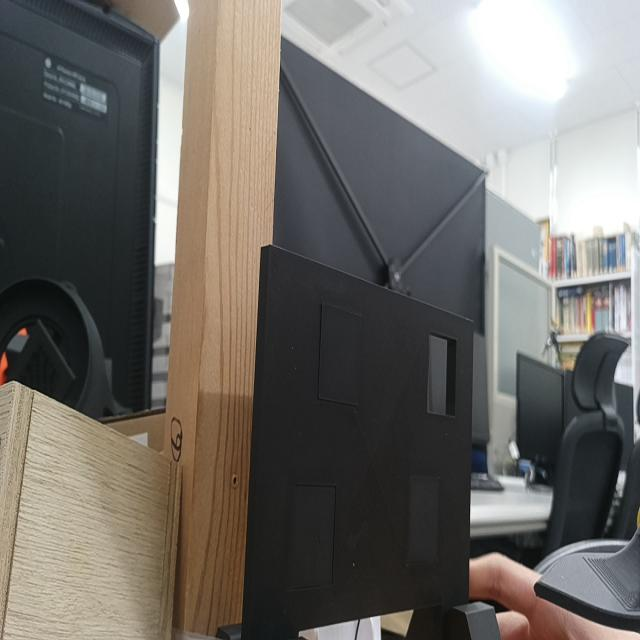Obstacle: (427, 333, 457, 418)
Wall: (252, 246, 474, 634)
